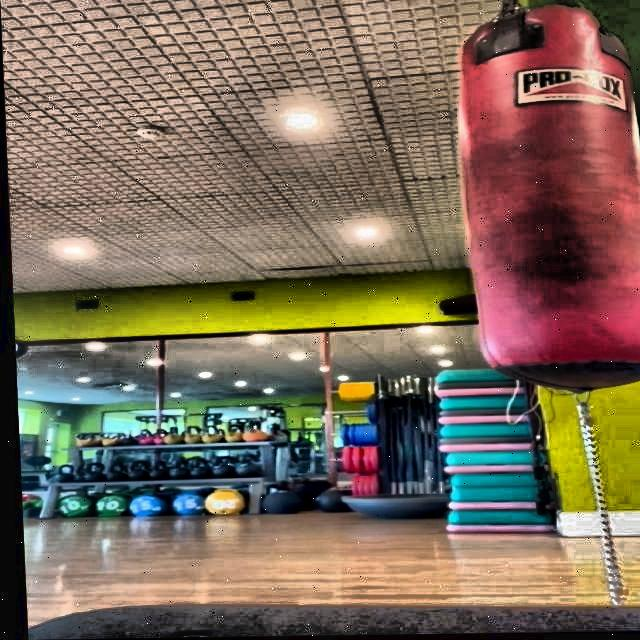boxing-bag: (458, 0, 640, 399)
